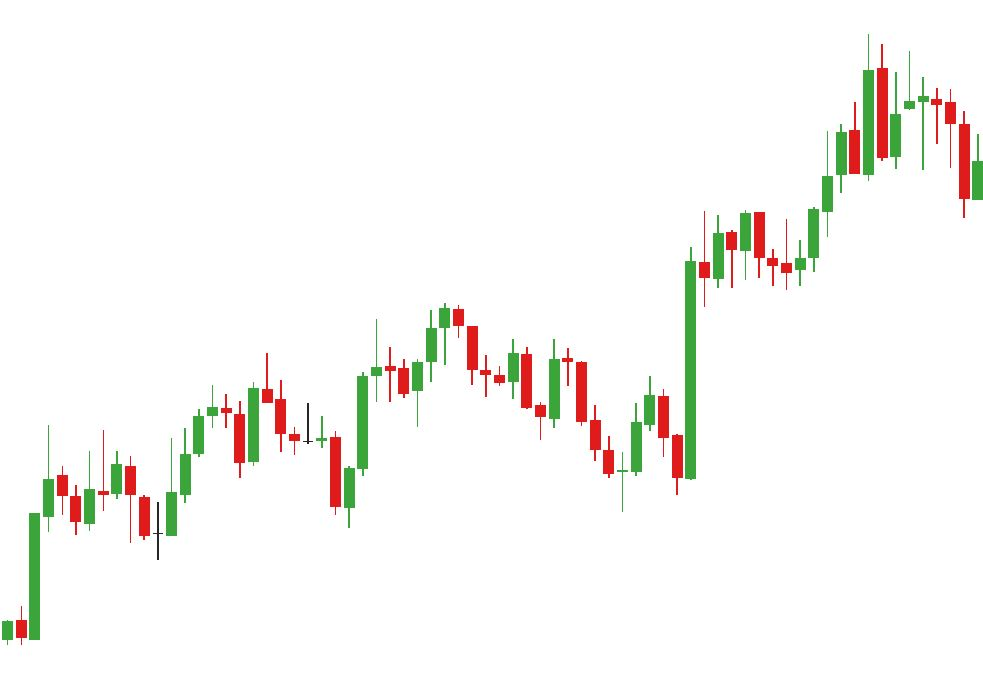buy: (69, 468, 178, 561)
